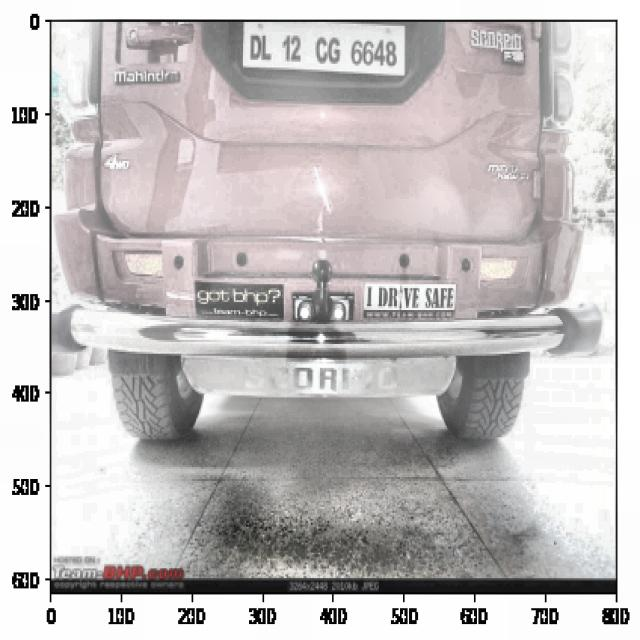license_plate: (240, 26, 408, 76)
